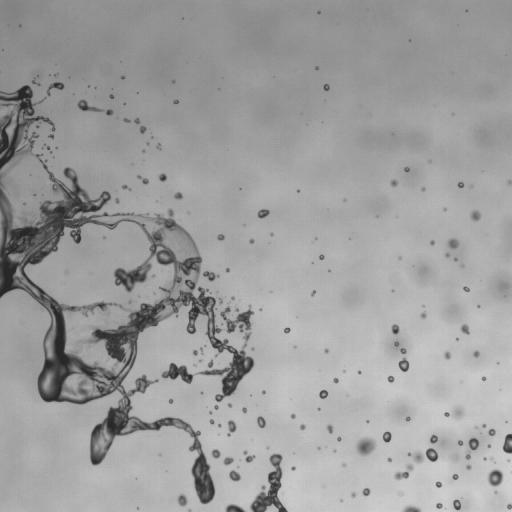droplet: (249, 453, 287, 511), (356, 437, 376, 456), (487, 469, 503, 486), (444, 406, 464, 419), (398, 357, 409, 371), (227, 419, 236, 436), (243, 450, 255, 462), (229, 470, 241, 481), (470, 210, 481, 221), (468, 438, 478, 450), (177, 494, 187, 506), (257, 209, 269, 218), (448, 238, 458, 248), (382, 431, 391, 442), (257, 416, 265, 428), (453, 499, 460, 511), (211, 449, 220, 458), (391, 324, 399, 334), (461, 324, 469, 334), (318, 390, 328, 398), (223, 457, 233, 465), (158, 173, 167, 181), (193, 348, 203, 355), (430, 434, 437, 443), (174, 192, 182, 199), (488, 428, 495, 436), (362, 488, 370, 495), (139, 126, 146, 133), (390, 179, 397, 186), (105, 109, 113, 115), (444, 351, 450, 359), (327, 424, 332, 433), (217, 234, 224, 240), (420, 312, 426, 319), (473, 350, 479, 357), (387, 376, 394, 382), (323, 84, 329, 90), (284, 327, 290, 333), (452, 455, 458, 461), (452, 474, 458, 480), (435, 481, 441, 487), (465, 452, 470, 459), (134, 118, 140, 123), (463, 286, 469, 291), (310, 290, 315, 296), (400, 348, 406, 353), (436, 503, 442, 508), (156, 143, 160, 150), (404, 167, 409, 172), (458, 182, 463, 187), (319, 254, 324, 259), (333, 378, 338, 383), (290, 413, 295, 418), (405, 416, 410, 421), (300, 424, 305, 429), (458, 440, 463, 445), (466, 464, 471, 469), (350, 492, 355, 497), (123, 118, 129, 122), (242, 407, 246, 413), (507, 503, 511, 509), (49, 133, 53, 138), (115, 198, 119, 203), (249, 239, 254, 243), (430, 240, 434, 245), (394, 341, 398, 346), (324, 348, 328, 353), (387, 457, 391, 462), (109, 94, 113, 98), (421, 187, 425, 191), (445, 253, 449, 257), (228, 403, 232, 407), (214, 405, 218, 409), (210, 419, 214, 423), (337, 437, 341, 441), (291, 466, 295, 470), (482, 376, 485, 381), (174, 100, 178, 103), (508, 180, 511, 184), (226, 268, 229, 272), (169, 399, 172, 403), (482, 424, 486, 427), (121, 76, 124, 79), (461, 264, 464, 267), (231, 297, 234, 300), (358, 370, 361, 373), (262, 390, 265, 393), (399, 492, 402, 495), (315, 67, 318, 69), (47, 146, 49, 149), (142, 150, 145, 152), (270, 233, 273, 235), (152, 274, 154, 277), (199, 359, 201, 362), (490, 458, 493, 460), (343, 463, 345, 466), (494, 491, 497, 493), (297, 190, 299, 192), (444, 208, 446, 210), (103, 237, 105, 239), (454, 258, 456, 260), (477, 305, 479, 307), (112, 320, 114, 322), (294, 345, 296, 347), (488, 445, 490, 447), (318, 447, 320, 449)
ligament: (0, 90, 254, 503), (408, 448, 438, 463), (394, 463, 413, 479), (77, 99, 102, 111), (47, 82, 63, 96), (502, 433, 511, 453), (225, 504, 246, 511), (401, 505, 421, 511), (137, 175, 148, 184), (122, 185, 130, 190), (32, 79, 38, 85), (188, 510, 191, 511)
